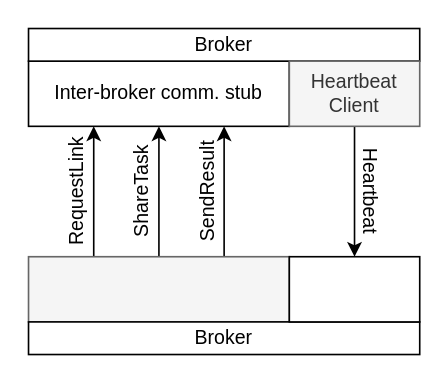
This 448x383 diagram has some shape labels left out. Each missing label, with the centre of its shape:
"Heartbeat stub" belongs at point 354,288.
"Inter-broker comm. Client" belongs at point 158,288.
